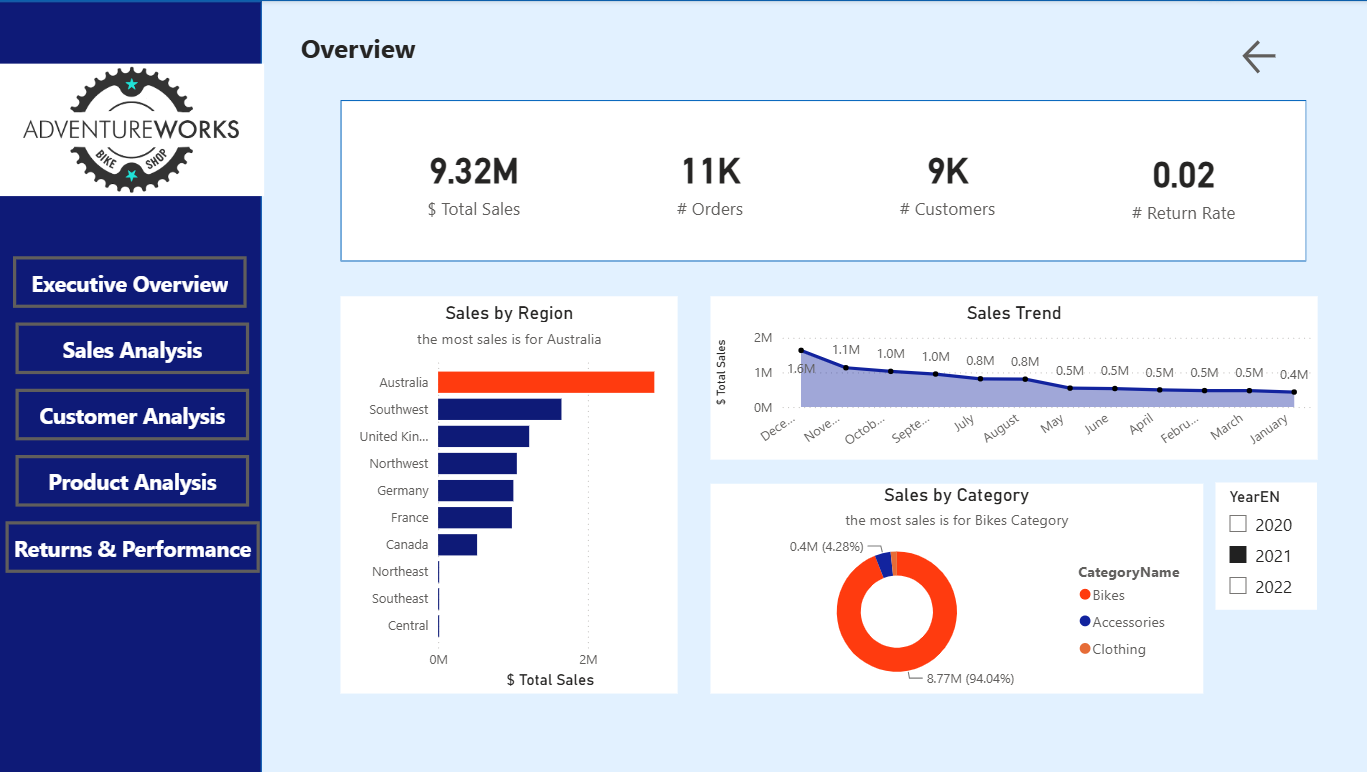

This screenshot's page, from the dashboard's own definition file:
{"tool":"powerbi","page":{"name":"Executive Overview","canvas":[1280,720],"ordinal":0},"visuals":[{"type":"shape","box":[0,0,1280,721.7],"z":0},{"type":"shape","box":[0,1.4,245.3,719.8],"z":500,"group":"g2"},{"type":"textbox","box":[257.4,23.7,155.8,58.4],"z":1000},{"type":"shape","box":[318.6,93.2,898.8,150.3],"z":2000},{"type":"card","fields":{"Values":["Fact_Sales.$ Total Sales"]},"box":[365.9,107.1,153,121],"z":3000},{"type":"card","fields":{"Values":["Fact_Sales.# Orders"]},"box":[586.2,107.1,153,121],"z":4000},{"type":"card","fields":{"Values":["Fact_Sales.# Customers"]},"box":[806.5,107.1,153,121],"z":5000},{"type":"card","fields":{"Values":["Fact_Returns.# Return Rate"]},"box":[1026.8,109.9,153,121],"z":6000},{"type":"lineChart","title":"Sales Trend","fields":{"Y":["Fact_Sales.$ Total Sales"],"Category":["Dim_Date.MonthNameEN"]},"box":[662.3,275.5,564.9,151.7],"z":7000},{"type":"slicer","fields":{"Values":["Dim_Date.Year"]},"box":[1132.5,449.4,94.6,118.3],"z":8000},{"type":"barChart","title":"Sales by Region","fields":{"Category":["Dim_Territory.Region"],"Y":["Fact_Sales.$ Total Sales"]},"box":[318.6,275.6,314,369.8],"z":9000},{"type":"donutChart","title":"Sales by Category","fields":{"Category":["Dim_Categories.CategoryName"],"Y":["Fact_Sales.$ Total Sales"]},"box":[662.8,450,458.1,195.3],"z":10000},{"type":"group","id":"g1","title":"Navigation","box":[0,0,247.3,721.6],"z":11000},{"type":"group","id":"g2","title":"Group 1","box":[0,1.4,245.3,719.8],"z":12000,"group":"g1"},{"type":"actionButton","box":[1154,32.3,63,40.9],"z":12000},{"type":"actionButton","box":[13.8,238.4,217.3,48],"z":12003,"group":"g2"},{"type":"image","box":[1.1,0,246.3,242.1],"z":12500,"group":"g1"},{"type":"actionButton","box":[16.6,300.1,217.3,48],"z":13000,"group":"g2"},{"type":"actionButton","box":[16.6,423.4,217.3,48],"z":14000,"group":"g2"},{"type":"actionButton","box":[7,485.1,236.5,48],"z":15000,"group":"g2"},{"type":"actionButton","box":[16.6,361.8,217.3,48],"z":16000,"group":"g2"}]}

Visuals, with their boxes in screenshot pixels (x1, y1, x2, y2), scaled from the page's 1280x720 canvas onto the 1367x772 screenshot:
shape: bbox=(0, 0, 1366, 771)
shape: bbox=(0, 2, 262, 771)
textbox: bbox=(275, 25, 441, 88)
shape: bbox=(340, 100, 1300, 261)
card - Fact_Sales.$ Total Sales: bbox=(391, 115, 554, 245)
card - Fact_Sales.# Orders: bbox=(626, 115, 789, 245)
card - Fact_Sales.# Customers: bbox=(861, 115, 1025, 245)
card - Fact_Returns.# Return Rate: bbox=(1097, 118, 1260, 248)
"Sales Trend" lineChart: bbox=(707, 295, 1311, 458)
slicer - Dim_Date.Year: bbox=(1209, 482, 1311, 609)
"Sales by Region" barChart: bbox=(340, 296, 676, 692)
"Sales by Category" donutChart: bbox=(708, 482, 1197, 692)
"Navigation" group: bbox=(0, 0, 264, 771)
"Group 1" group: bbox=(0, 2, 262, 771)
actionButton: bbox=(1232, 35, 1300, 78)
actionButton: bbox=(15, 256, 247, 307)
image: bbox=(1, 0, 264, 260)
actionButton: bbox=(18, 322, 250, 373)
actionButton: bbox=(18, 454, 250, 505)
actionButton: bbox=(7, 520, 260, 572)
actionButton: bbox=(18, 388, 250, 439)
